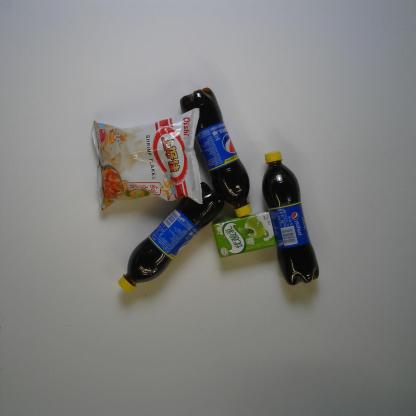Drink: (116, 181, 226, 296), (178, 86, 254, 219), (261, 150, 320, 287)
Milk: (212, 210, 277, 259)
Puffed Food: (90, 107, 205, 212)
